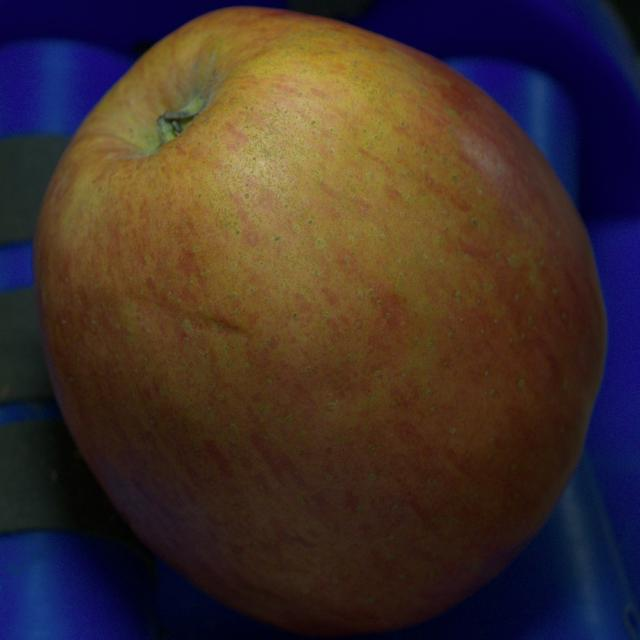apple: (34, 8, 606, 635)
bruise: (138, 297, 250, 340)
